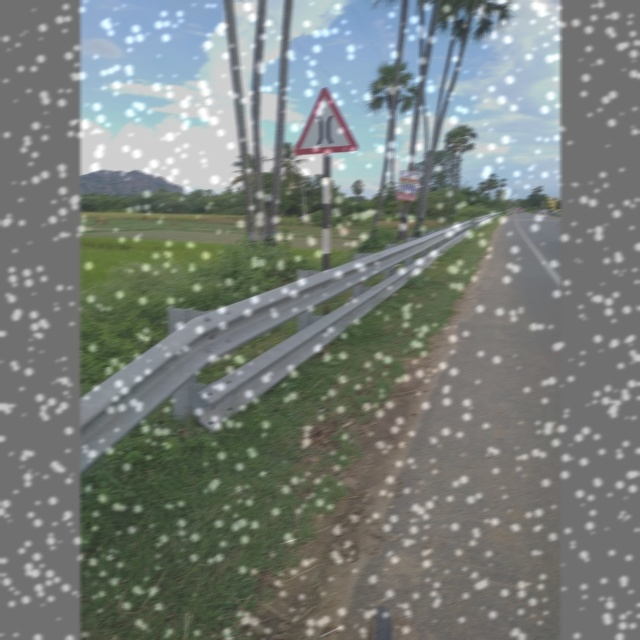Narrow_Bridge: (287, 82, 370, 161)
